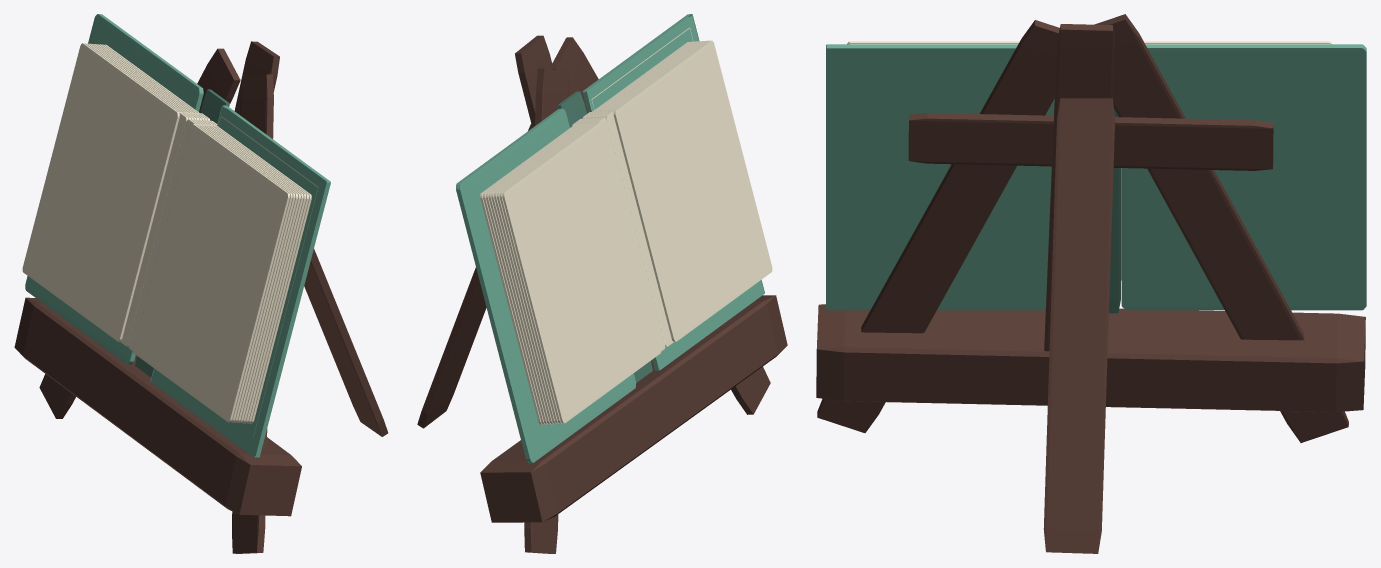
The model's file is book.fbx.
3 views of the same model, side by side, from view 1: azimuth 30°, elevation 25°; view 2: azimuth 150°, elevation 25°; view 3: azimuth 270°, elevation 25° (orthographic). The views are drawn at different scales.
Visible parts, largest first — view 1: right_book, left_book, stand, right_cover, left_cover, spine; view 2: left_book, right_book, stand, left_cover, right_cover, spine; view 3: stand, left_cover, right_cover, spine, left_book, right_book.
Part boxes in pixels (x1,y1,x2,y2): right_book: [128, 116, 318, 437]; left_book: [22, 43, 210, 346]; stand: [14, 41, 388, 553]; right_cover: [150, 105, 330, 458]; left_cover: [25, 14, 203, 364]; spine: [135, 89, 229, 377]; left_book: [480, 117, 665, 424]; right_book: [582, 27, 772, 346]; stand: [417, 35, 787, 553]; left_cover: [456, 108, 636, 463]; right_cover: [582, 14, 764, 370]; spine: [557, 91, 652, 382]; stand: [816, 14, 1365, 553]; left_cover: [1121, 44, 1366, 310]; right_cover: [826, 44, 1054, 310]; spine: [1109, 108, 1120, 313]; left_book: [1121, 41, 1331, 280]; right_book: [847, 41, 1019, 44].
Bounding box in the file's own units: 121 × 191 × 198.
